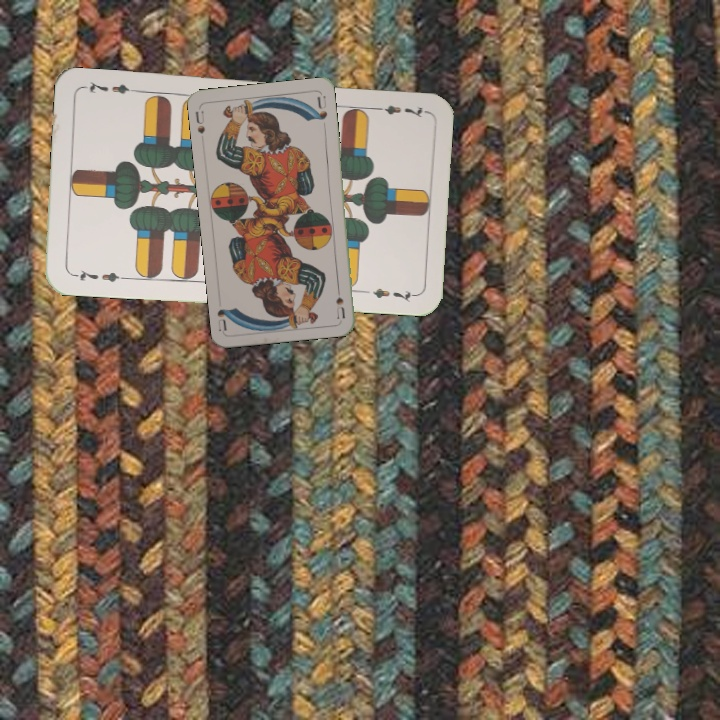E7: (369, 101, 428, 121), (68, 266, 127, 285)
SU: (332, 280, 348, 320), (192, 104, 207, 136)
